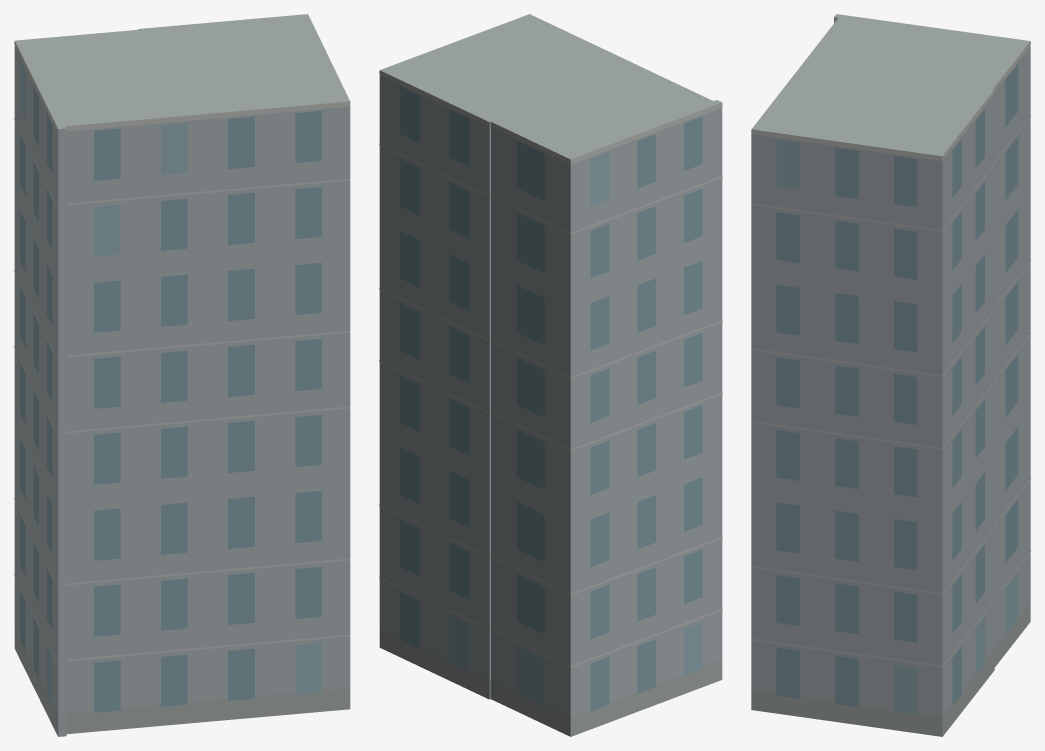
File: survey-upis-32522603.glb
3 views of the same model, side by side, from view 1: azimuth 30°, elevation 25°; view 2: azimuth 150°, elevation 25°; view 3: azimuth 270°, elevation 25° (orthographic). The views are drawn at different scales.
Visible parts, largest first — view 1: survey-upis-32522603.tmp; view 2: survey-upis-32522603.tmp; view 3: survey-upis-32522603.tmp.
Part boxes in pixels (bbox=[...]): survey-upis-32522603.tmp: bbox=[14, 14, 350, 736]; survey-upis-32522603.tmp: bbox=[379, 14, 722, 736]; survey-upis-32522603.tmp: bbox=[751, 14, 1030, 736].
Bounding box in the file's own units: 14.93 × 28.36 × 12.38.
